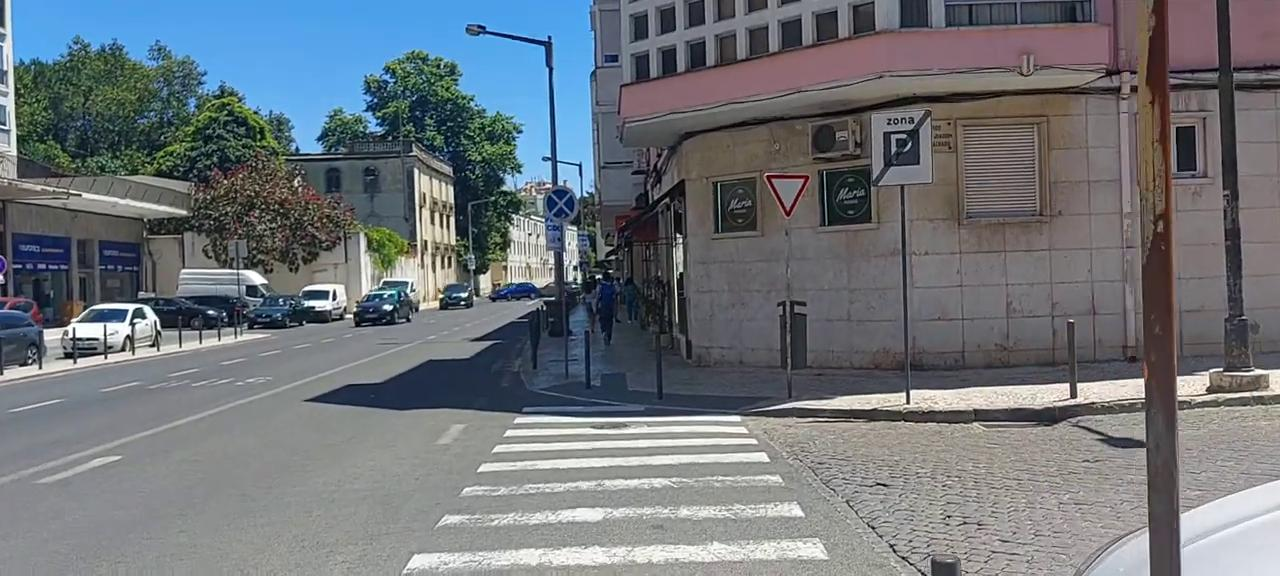cedencia de passagem: (761, 168, 814, 220)
fim de zona de estacionamento autorizado: (867, 104, 934, 189)
paragem e estacionamento proibido: (542, 183, 580, 224)
